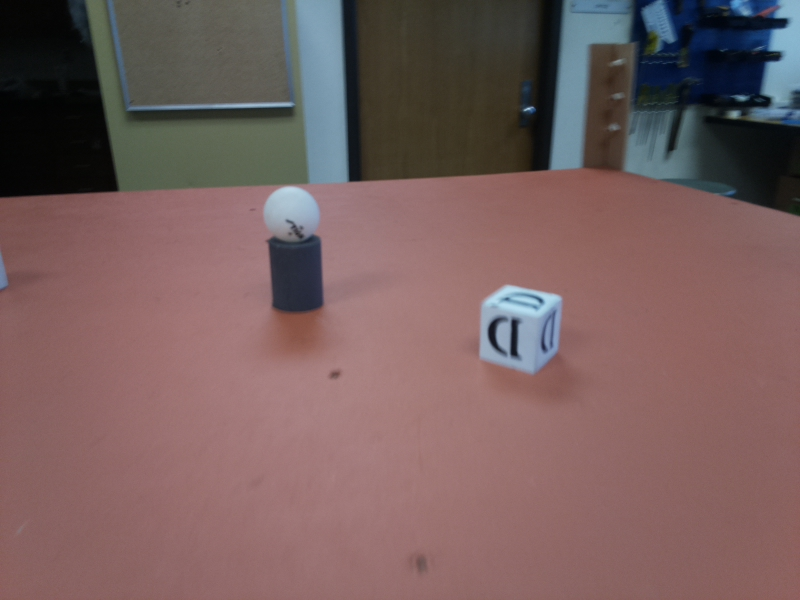blockD: (473, 283, 565, 379)
corner: (579, 42, 638, 176)
obstacle: (263, 183, 323, 326)
